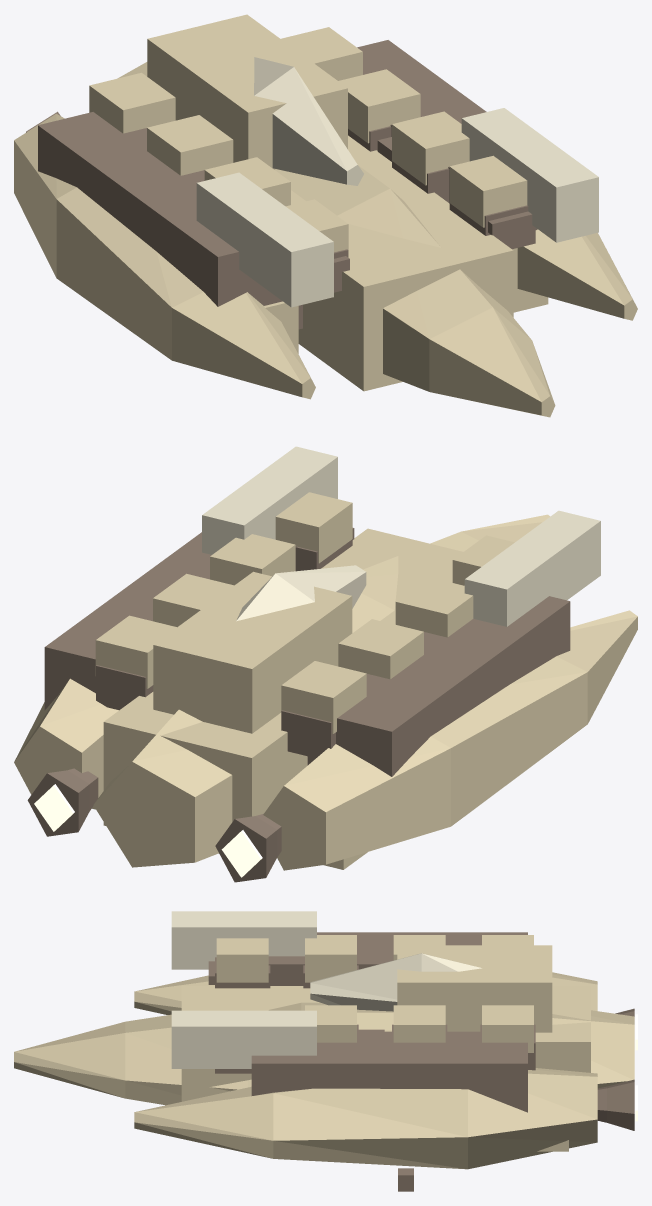
The picture shows the model from 3 angles, top to bottom: view 1: azimuth 30°, elevation 25°; view 2: azimuth 150°, elevation 25°; view 3: azimuth 270°, elevation 25°; orthographic projection. The views are drawn at different scales.
Size of the model in its own units: 13.61 by 6.8 by 22.55.
